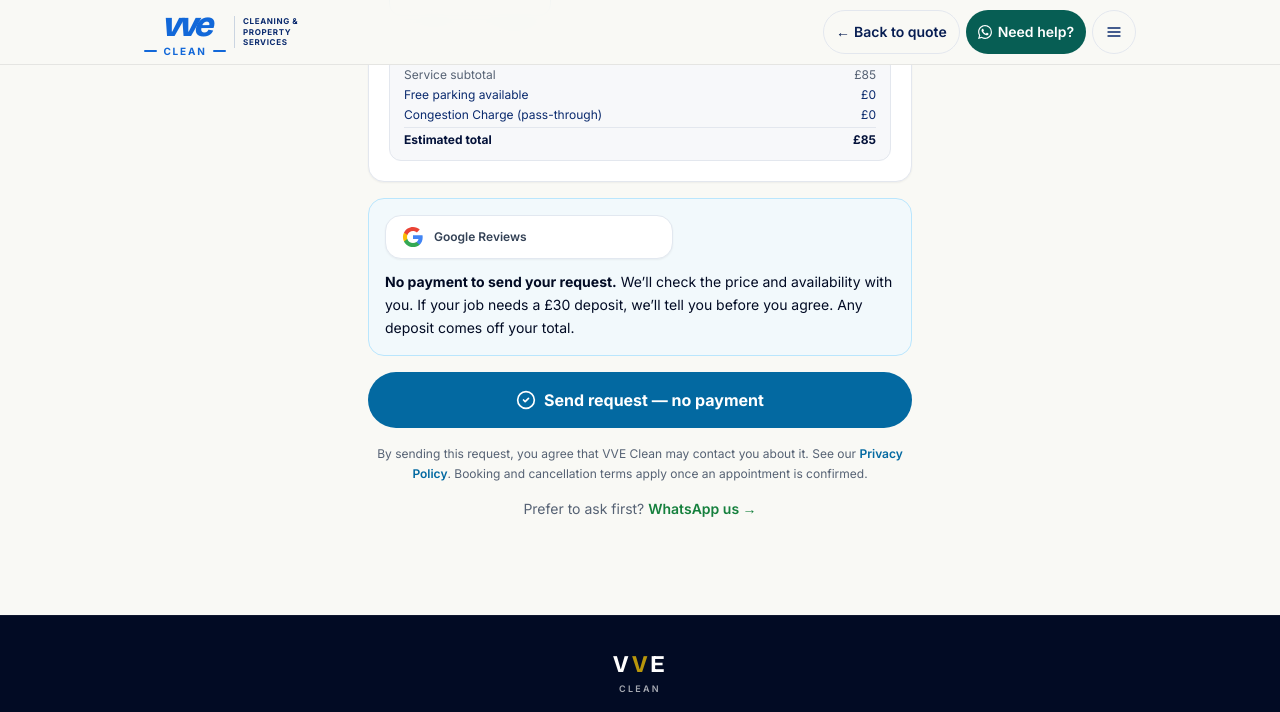
Test: booking acknowledgement and request validation › shows unrelated conflicts without disabling request retry as a changed price
(page scrolled)
Click the button "Send request — no payment": (640, 400) x1=368 y1=372 x2=912 y2=428
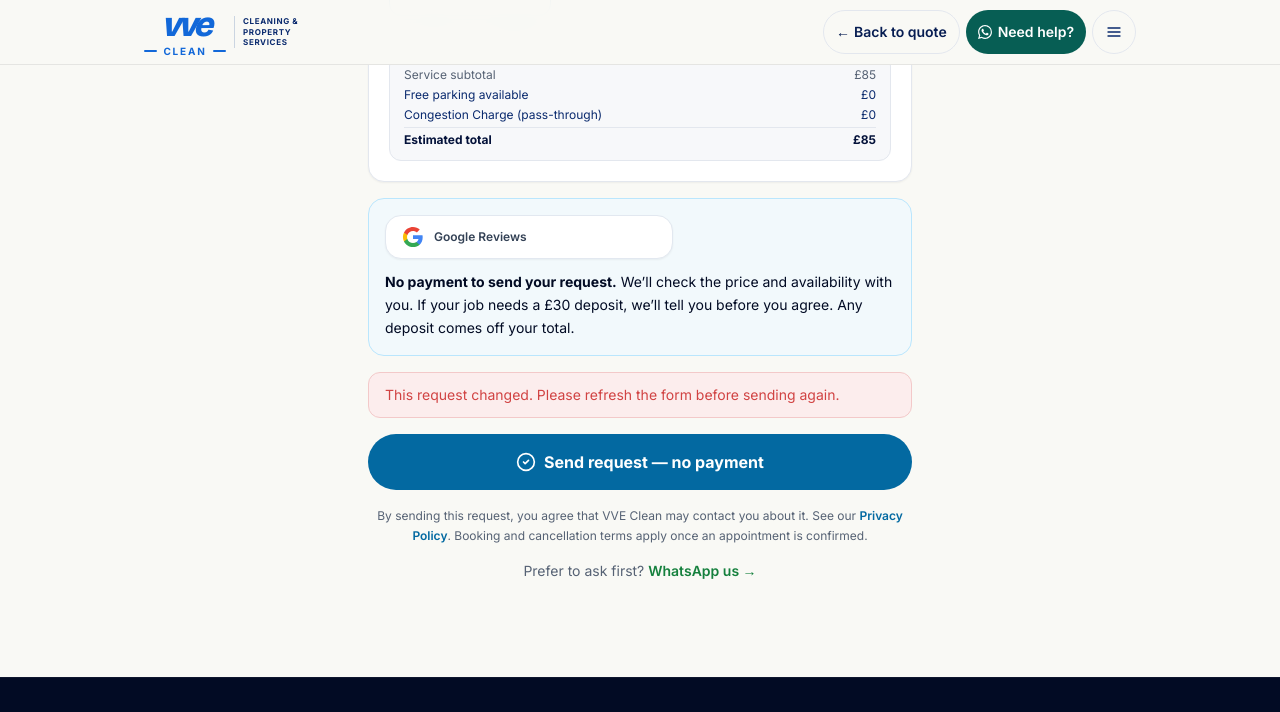
Expected: the button "Send request — no payment" is enabled, x1=368 y1=434 x2=912 y2=490
Now the message shows "This request changed.", box x1=385 y1=386 x2=840 y2=403
